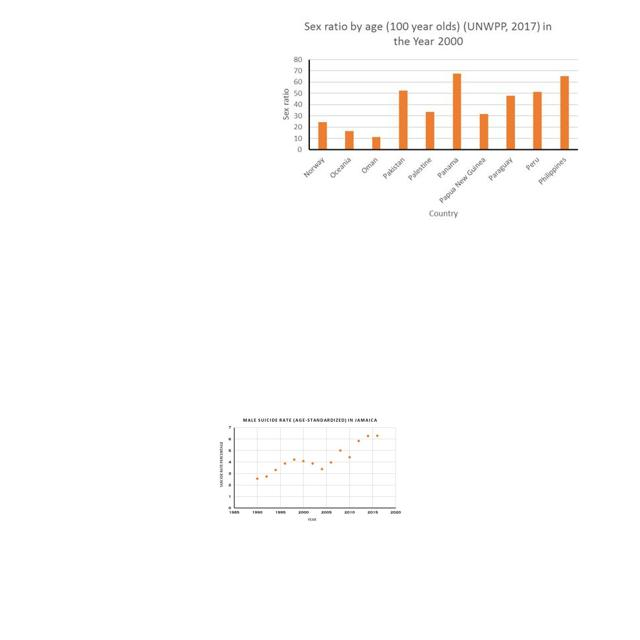Graph: (274, 13, 580, 221), (218, 416, 402, 523)
